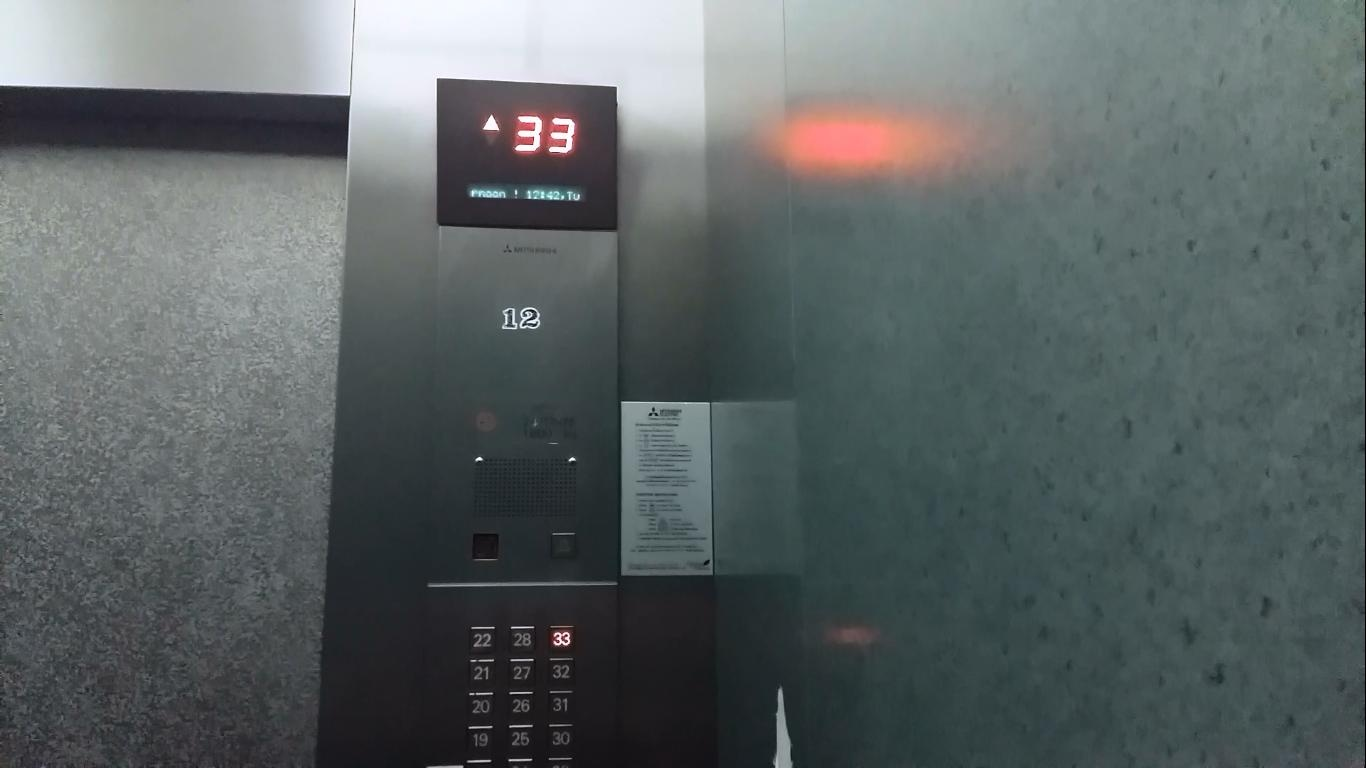19: (465, 724, 495, 754)
20: (466, 691, 495, 718)
21: (468, 658, 497, 686)
22: (469, 625, 496, 654)
25: (507, 724, 536, 751)
26: (507, 690, 535, 718)
27: (507, 657, 537, 685)
28: (508, 625, 537, 652)
30: (547, 723, 575, 750)
31: (548, 690, 575, 717)
32: (548, 657, 577, 685)
33: (548, 625, 575, 652)
alarm: (549, 532, 576, 562)
empty: (471, 532, 499, 561)
led: (430, 74, 623, 236)
